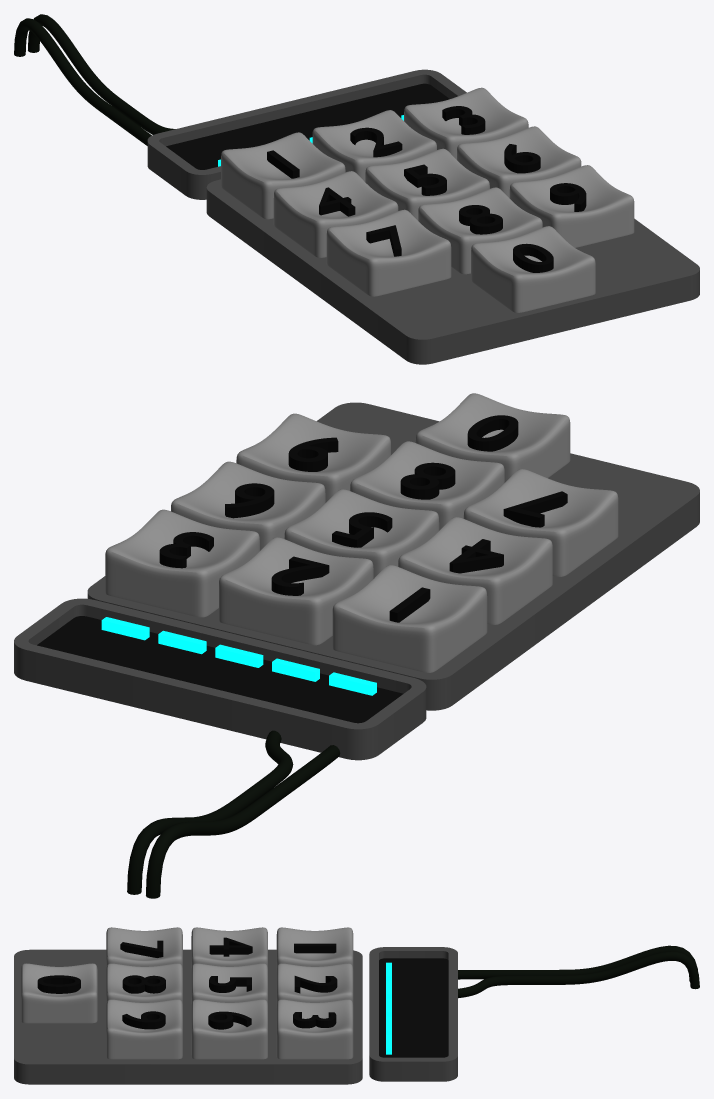
File: number pad.fbx
3 views of the same model, one above another, from view 1: azimuth 30°, elevation 25°; view 2: azimuth 150°, elevation 25°; view 3: azimuth 270°, elevation 25° (orthographic). The views are drawn at different scales.
Parts seen in each view (by area): view 1: Cube.010, Cube.011, Cube.006, Cube.009, Cube.008, Cube, Cube.003, NurbsPath, Cube.007, Cube.001, Cube.005, Cube.002 (+10 smaller); view 2: Cube.011, Cube.010, Cube, Cube.002, Cube.001, Cube.006, Cube.003, NurbsPath, Cube.009, Cube.004, Cube.008, Cube.005 (+11 smaller); view 3: Cube.010, Cube.011, NurbsPath, Cube.002, Cube.005, Cube.008, Cube.009, Cube, Cube.006, Cube.001, Cube.003, Cube.004 (+12 smaller).
Part boxes in pixels (left/top/right/bottom): Cube.010: left=206, top=179, right=699, bottom=364; Cube.011: left=147, top=69, right=466, bottom=199; Cube.006: left=326, top=209, right=451, bottom=296; Cube.009: left=471, top=226, right=595, bottom=312; Cube.008: left=509, top=165, right=634, bottom=247; Cube: left=221, top=132, right=345, bottom=219; Cube.003: left=273, top=171, right=398, bottom=257; NurbsPath: left=14, top=14, right=175, bottom=145; Cube.007: left=418, top=187, right=542, bottom=274; Cube.001: left=312, top=110, right=436, bottom=181; Cube.005: left=457, top=126, right=581, bottom=198; Cube.002: left=404, top=87, right=528, bottom=159; Cube.011: left=14, top=598, right=426, bottom=760; Cube.010: left=87, top=402, right=699, bottom=710; Cube: left=332, top=565, right=487, bottom=672; Cube.002: left=105, top=509, right=259, bottom=617; Cube.001: left=219, top=537, right=373, bottom=645; Cube.006: left=463, top=469, right=618, bottom=576; Cube.003: left=398, top=517, right=552, bottom=624; NurbsPath: left=127, top=730, right=340, bottom=898; Cube.009: left=415, top=393, right=570, bottom=482; Cube.004: left=284, top=489, right=439, bottom=578; Cube.008: left=236, top=413, right=390, bottom=502; Cube.005: left=171, top=461, right=325, bottom=550; Cube.010: left=14, top=949, right=362, bottom=1084; Cube.011: left=369, top=947, right=457, bottom=1081; NurbsPath: left=458, top=945, right=699, bottom=998; Cube.002: left=276, top=999, right=353, bottom=1059; Cube.005: left=191, top=999, right=267, bottom=1059; Cube.008: left=106, top=999, right=182, bottom=1059; Cube.009: left=21, top=963, right=97, bottom=1023; Cube: left=276, top=927, right=353, bottom=969; Cube.006: left=106, top=927, right=182, bottom=970; Cube.001: left=276, top=963, right=353, bottom=1005; Cube.003: left=191, top=927, right=267, bottom=971; Cube.004: left=191, top=963, right=267, bottom=1007.
Size of the model in its own units: 636 by 131 by 1610.
